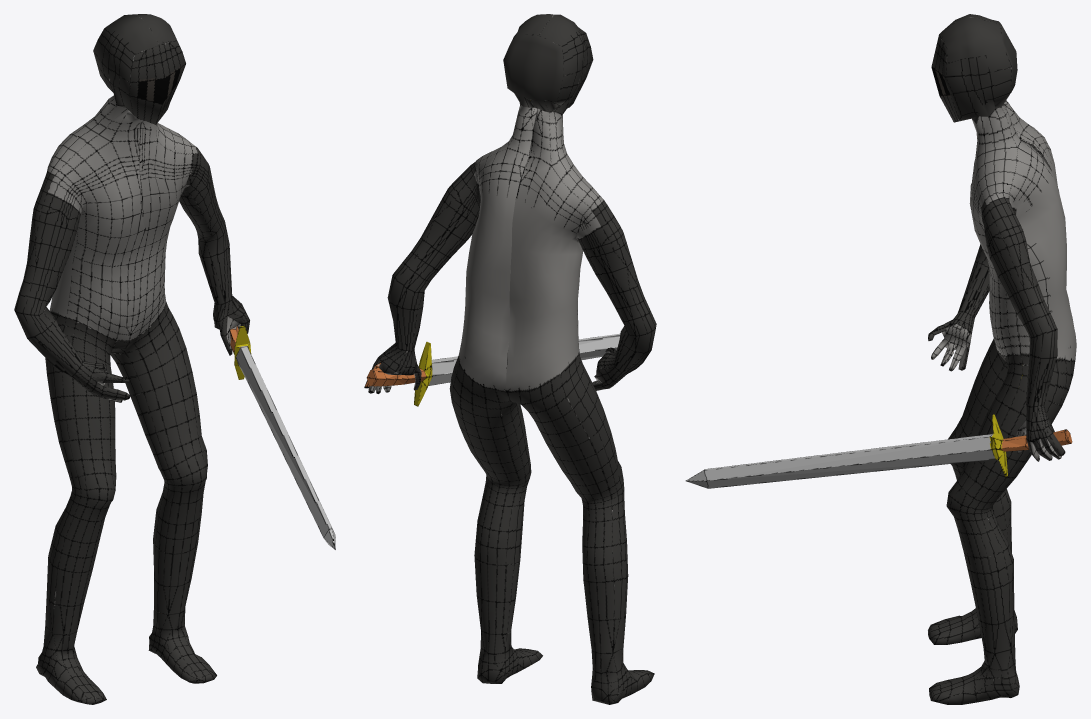
File: player.obj
The picture shows the model from 3 angles, left to right: view 1: azimuth 30°, elevation 25°; view 2: azimuth 150°, elevation 25°; view 3: azimuth 270°, elevation 25°; orthographic projection.
Visible parts, largest first — view 1: Cube_Cube.001; view 2: Cube_Cube.001; view 3: Cube_Cube.001.
Part boxes in pixels (box(x1,y1,x2,y2)): Cube_Cube.001: box(14, 14, 335, 704); Cube_Cube.001: box(364, 14, 656, 704); Cube_Cube.001: box(685, 14, 1076, 704).
Size of the model in its own units: 1.9 by 4.7 by 2.52.
Materials: 1 (1 with a texture image).
